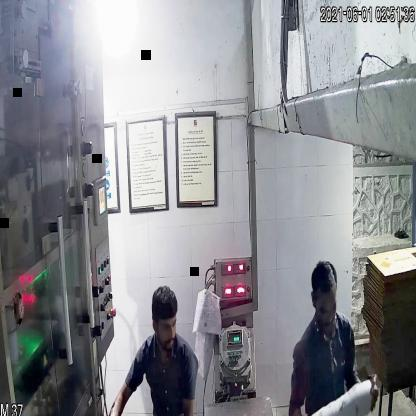no_goggles: (149, 310, 179, 337)
